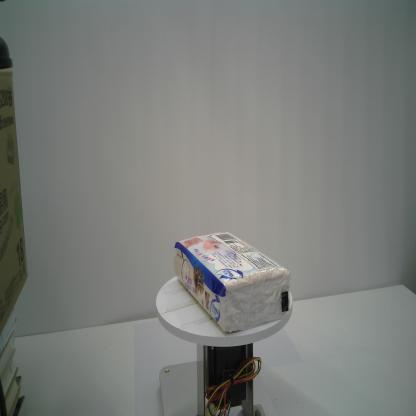Tissue: (171, 229, 292, 334)
